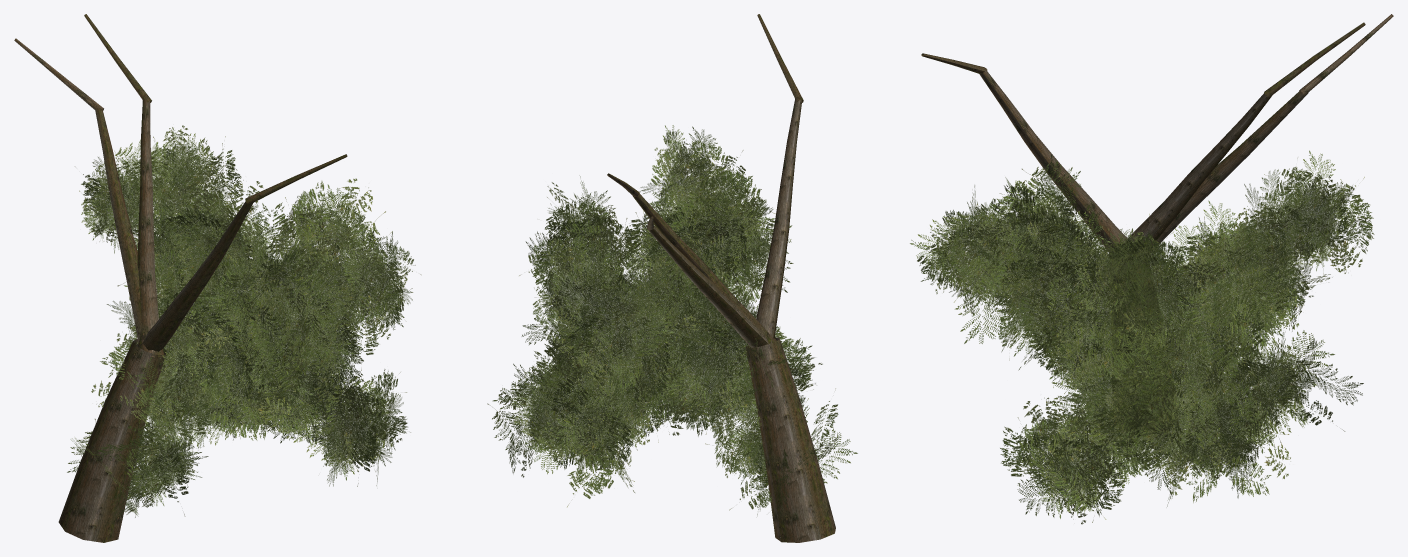
Rendered from olive_5.glb.
The picture shows the model from 3 angles, left to right: view 1: azimuth 30°, elevation 25°; view 2: azimuth 150°, elevation 25°; view 3: azimuth 270°, elevation 25°; orthographic projection. The views are drawn at different scales.
Parts seen in each view (by area): view 1: olive; view 2: olive; view 3: olive.
Part boxes in pixels (left/top/right/bottom): olive: left=14, top=14, right=420, bottom=542; olive: left=487, top=14, right=857, bottom=542; olive: left=910, top=14, right=1393, bottom=524.
Bounding box in the file's own units: 6.88 × 8.25 × 8.25.
2 materials, 2 textured.
